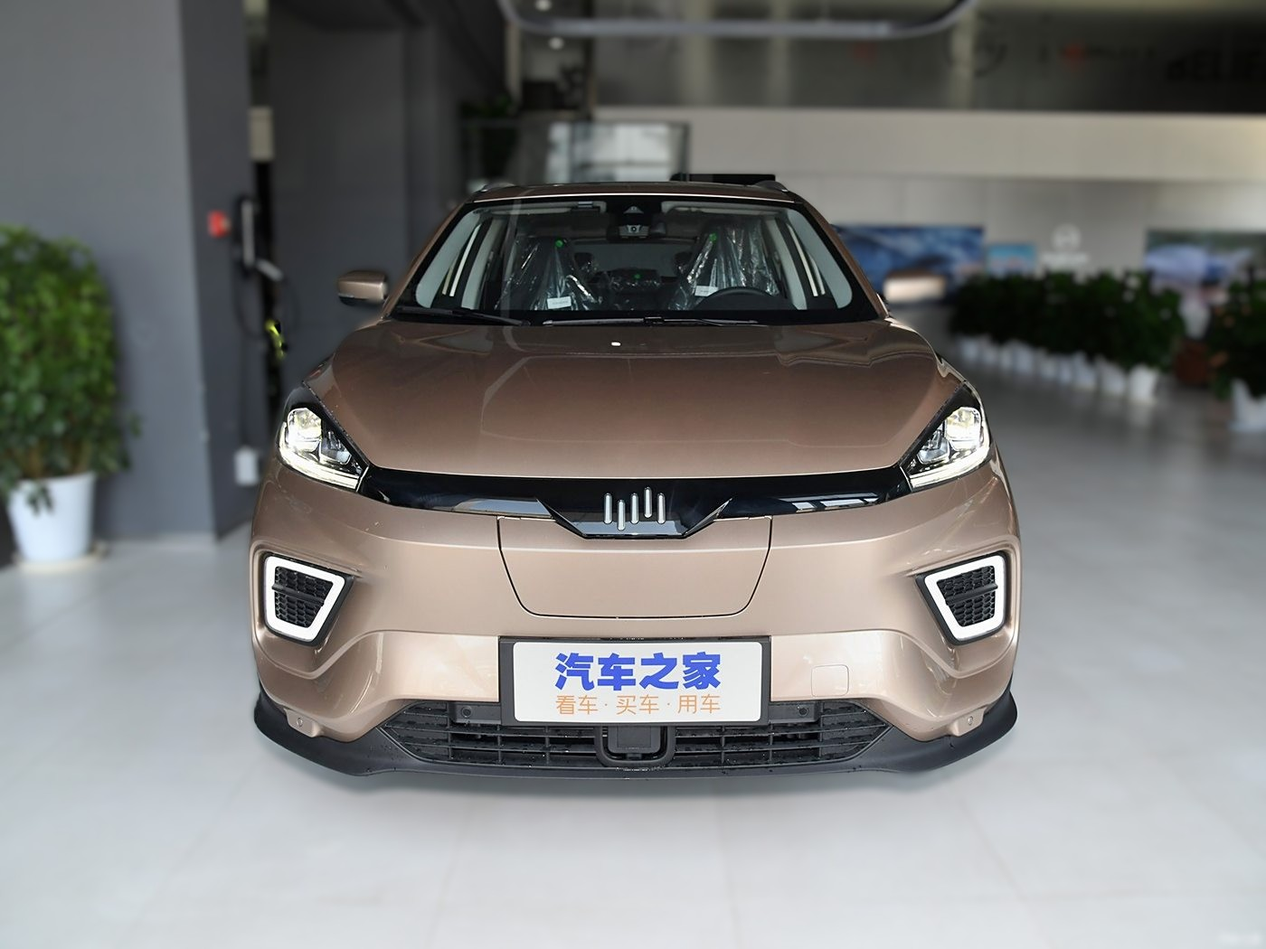WELTMEISTER: (605, 489, 666, 530)
